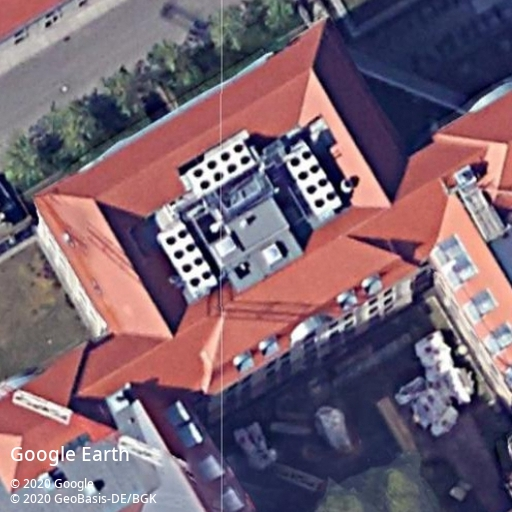Chiller: (157, 220, 218, 295), (187, 137, 258, 199), (286, 146, 342, 217)
